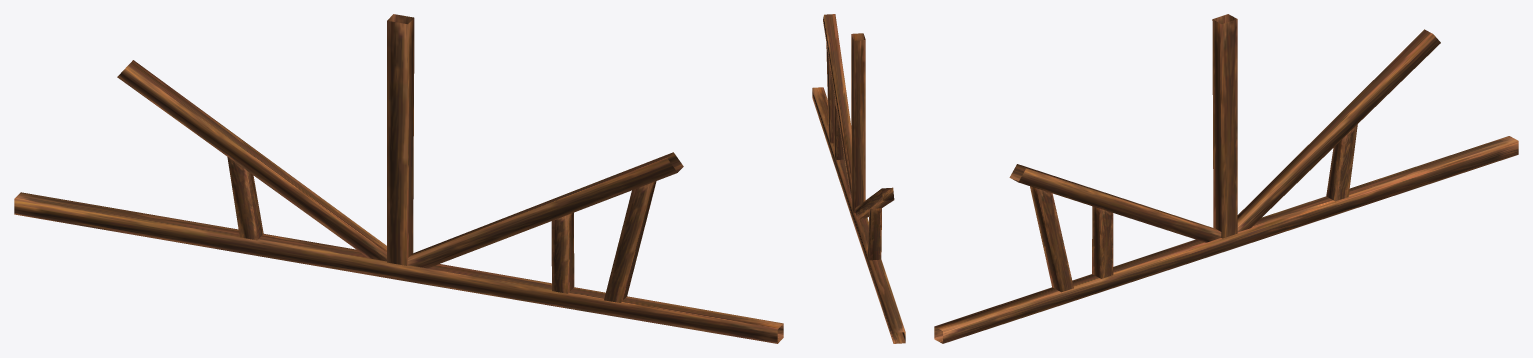
Rendered from SWORDLIGHT20_JAILCEILBRACKET18.fbx.
The picture shows the model from 3 angles, left to right: view 1: azimuth 30°, elevation 25°; view 2: azimuth 150°, elevation 25°; view 3: azimuth 270°, elevation 25°; orthographic projection. The views are drawn at different scales.
Visible parts, largest first — view 1: SWORDLIGHT20_JAILCEILBRACKET18; view 2: SWORDLIGHT20_JAILCEILBRACKET18; view 3: SWORDLIGHT20_JAILCEILBRACKET18.
Boxes of the visible parts, x1=… form: SWORDLIGHT20_JAILCEILBRACKET18: x1=14, y1=14, x2=783, y2=343; SWORDLIGHT20_JAILCEILBRACKET18: x1=812, y1=14, x2=905, y2=343; SWORDLIGHT20_JAILCEILBRACKET18: x1=934, y1=14, x2=1518, y2=343.
Size of the model in its own units: 90869 by 49666 by 115172.
1 material, 1 textured.
